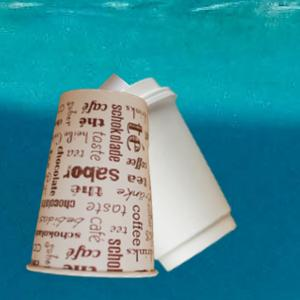cup: (23, 88, 158, 279)
